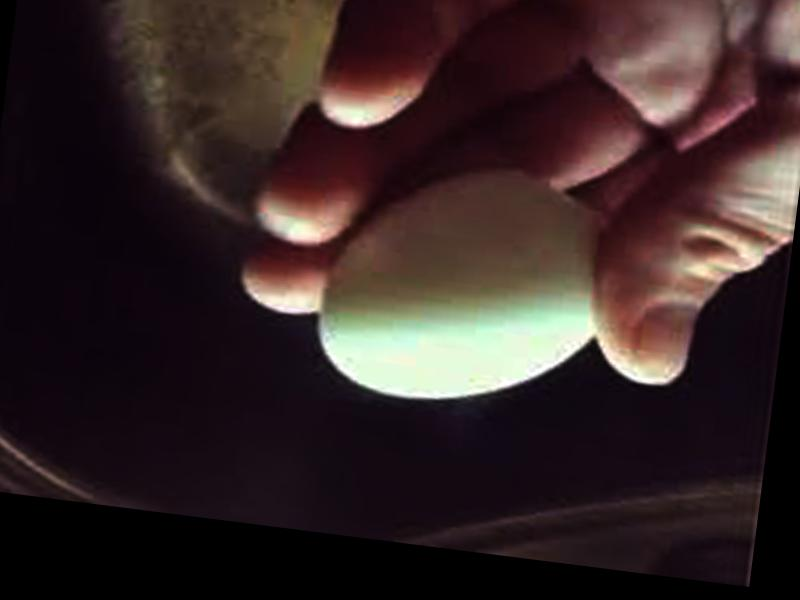Eggs: (316, 156, 619, 421)
